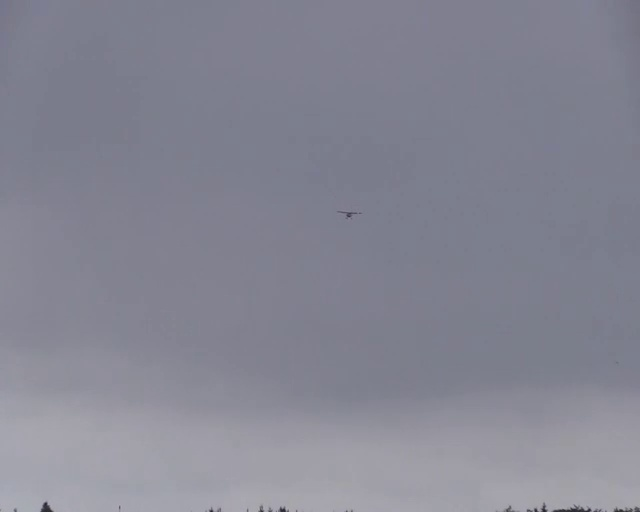AIRPLANE: (336, 210, 362, 219)
